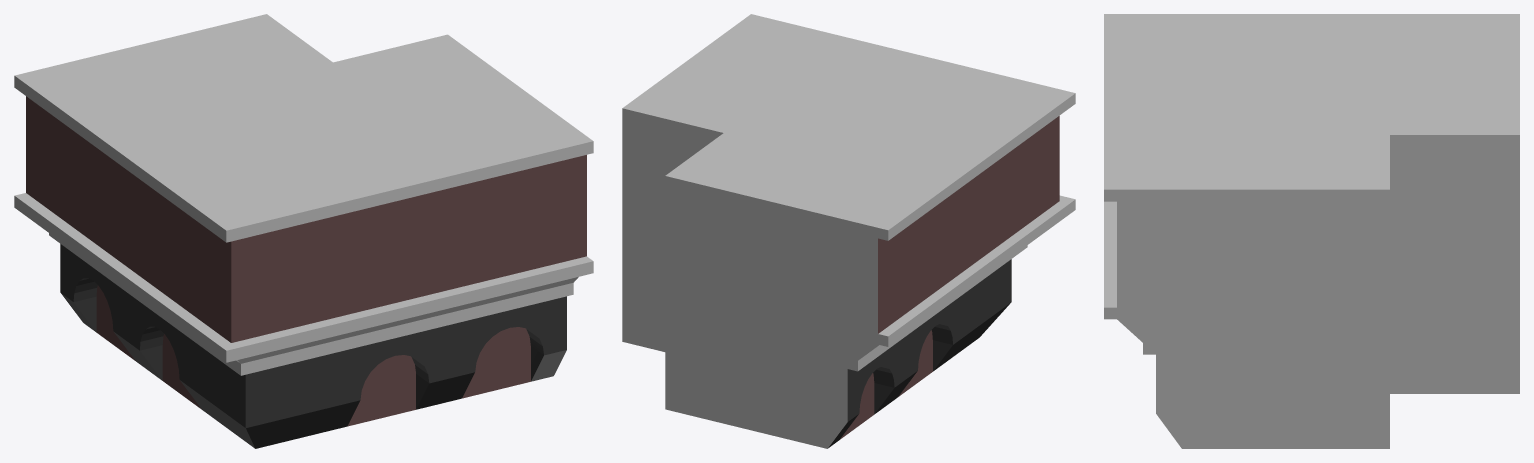
File: RoofPillar2.fbx
3 renders of one model, left to right at view 1: azimuth 30°, elevation 25°; view 2: azimuth 150°, elevation 25°; view 3: azimuth 270°, elevation 25°, orthographic. The views are drawn at different scales.
Visible parts, largest first — view 1: Tile11; view 2: Tile11; view 3: Tile11.
Boxes of the visible parts, x1,y1,x2,y2 form: Tile11: (14, 14, 593, 448); Tile11: (622, 14, 1075, 448); Tile11: (1104, 14, 1519, 448).
Size of the model in its own units: 1.6 by 1.1 by 1.6.
